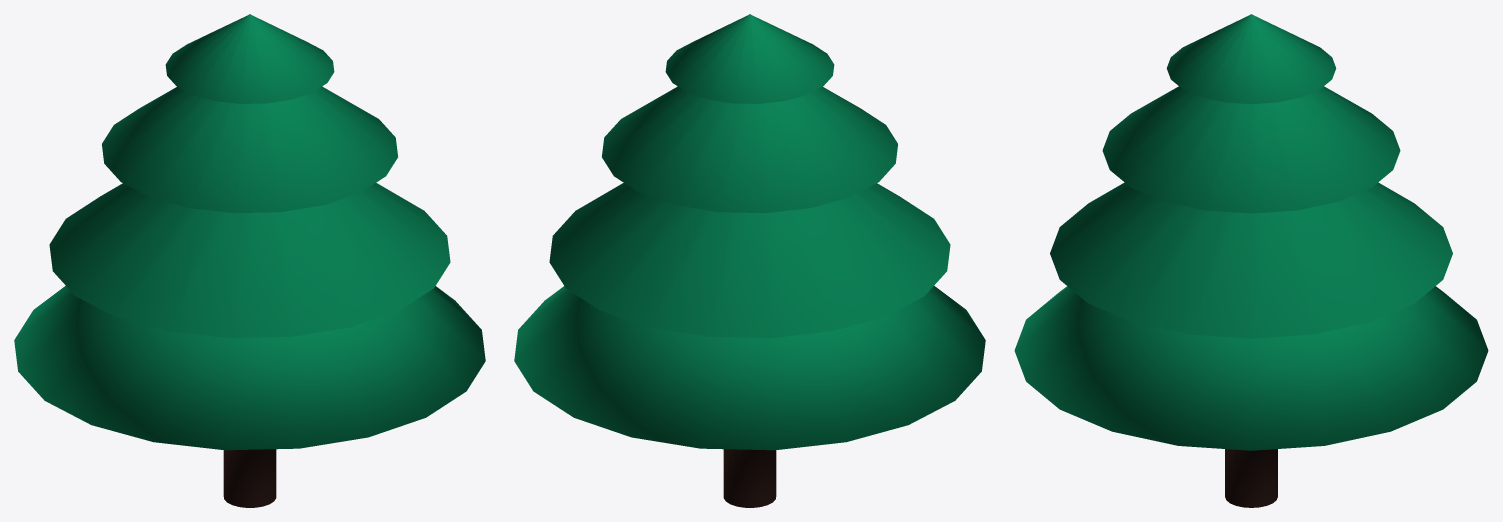
File: Tree_01.fbx
3 views of the same model, side by side, from view 1: azimuth 30°, elevation 25°; view 2: azimuth 150°, elevation 25°; view 3: azimuth 270°, elevation 25° (orthographic).
Visible parts, largest first — view 1: pCylinder1; view 2: pCylinder1; view 3: pCylinder1.
Part boxes in pixels (x1,y1,x2,y2): pCylinder1: [14, 14, 485, 507]; pCylinder1: [514, 14, 985, 507]; pCylinder1: [1014, 14, 1488, 507].
Size of the model in its own units: 895 by 1006 by 895.
